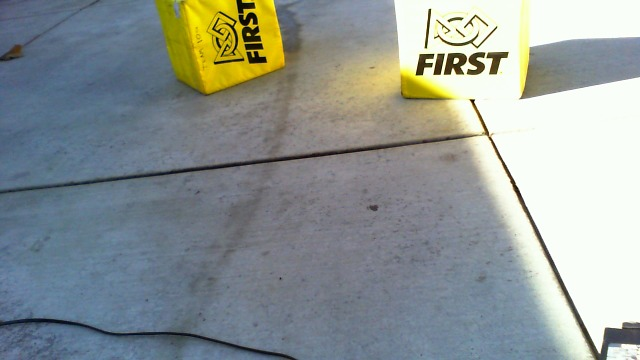cube: (392, 1, 532, 103), (153, 1, 287, 96)
